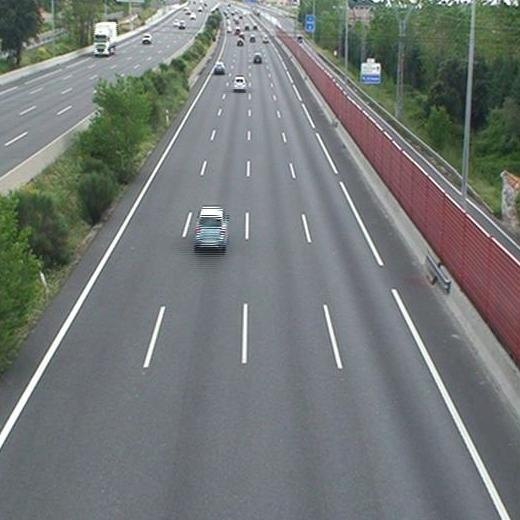car: (195, 208, 228, 247), (234, 77, 246, 91), (213, 63, 225, 74), (252, 54, 262, 63)
